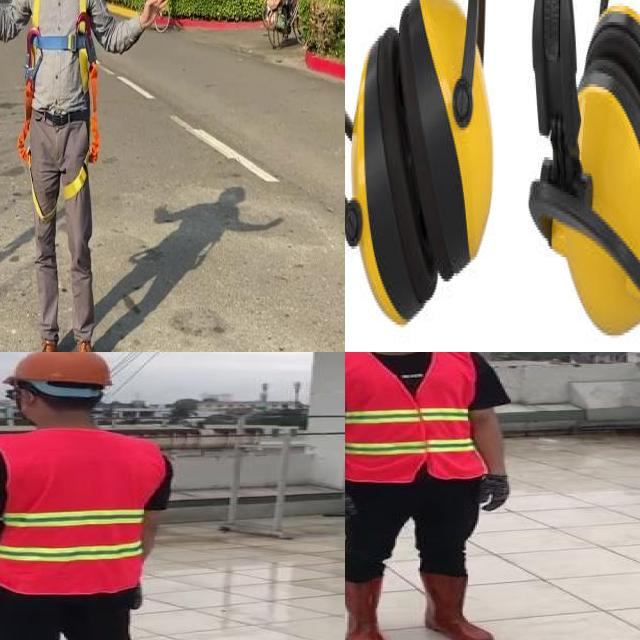Ear-protection: (345, 0, 510, 326), (528, 0, 640, 349)
Harness: (18, 0, 101, 200)
boots: (418, 570, 492, 640), (345, 572, 393, 640)
hand_glove: (479, 473, 521, 514), (345, 486, 356, 521)
head_helmet: (0, 352, 112, 387)
person: (0, 352, 178, 640), (345, 352, 518, 640)
vest: (0, 428, 165, 592), (345, 352, 487, 478)
